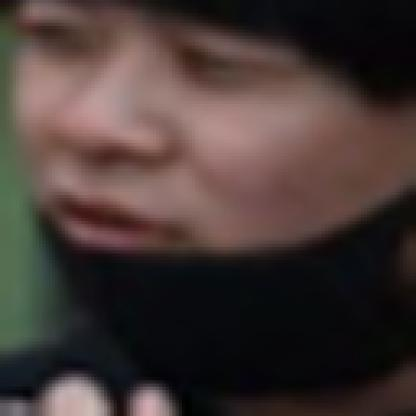mask_weared_incorrect: (0, 0, 361, 355)
